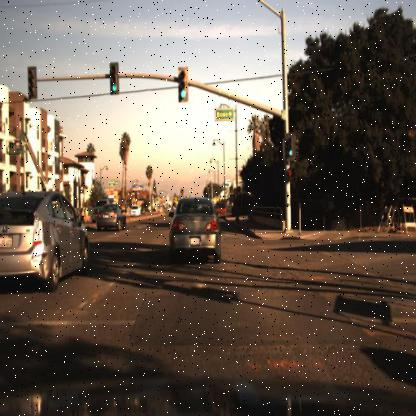car: (1, 187, 91, 290), (158, 184, 222, 278), (91, 198, 135, 240), (96, 200, 127, 232), (88, 195, 106, 223), (130, 204, 141, 219)
trafficLight: (23, 58, 41, 107), (105, 57, 120, 99), (177, 67, 187, 103)
trafficLight-Green: (280, 130, 298, 171), (108, 58, 119, 92), (285, 130, 295, 166)
